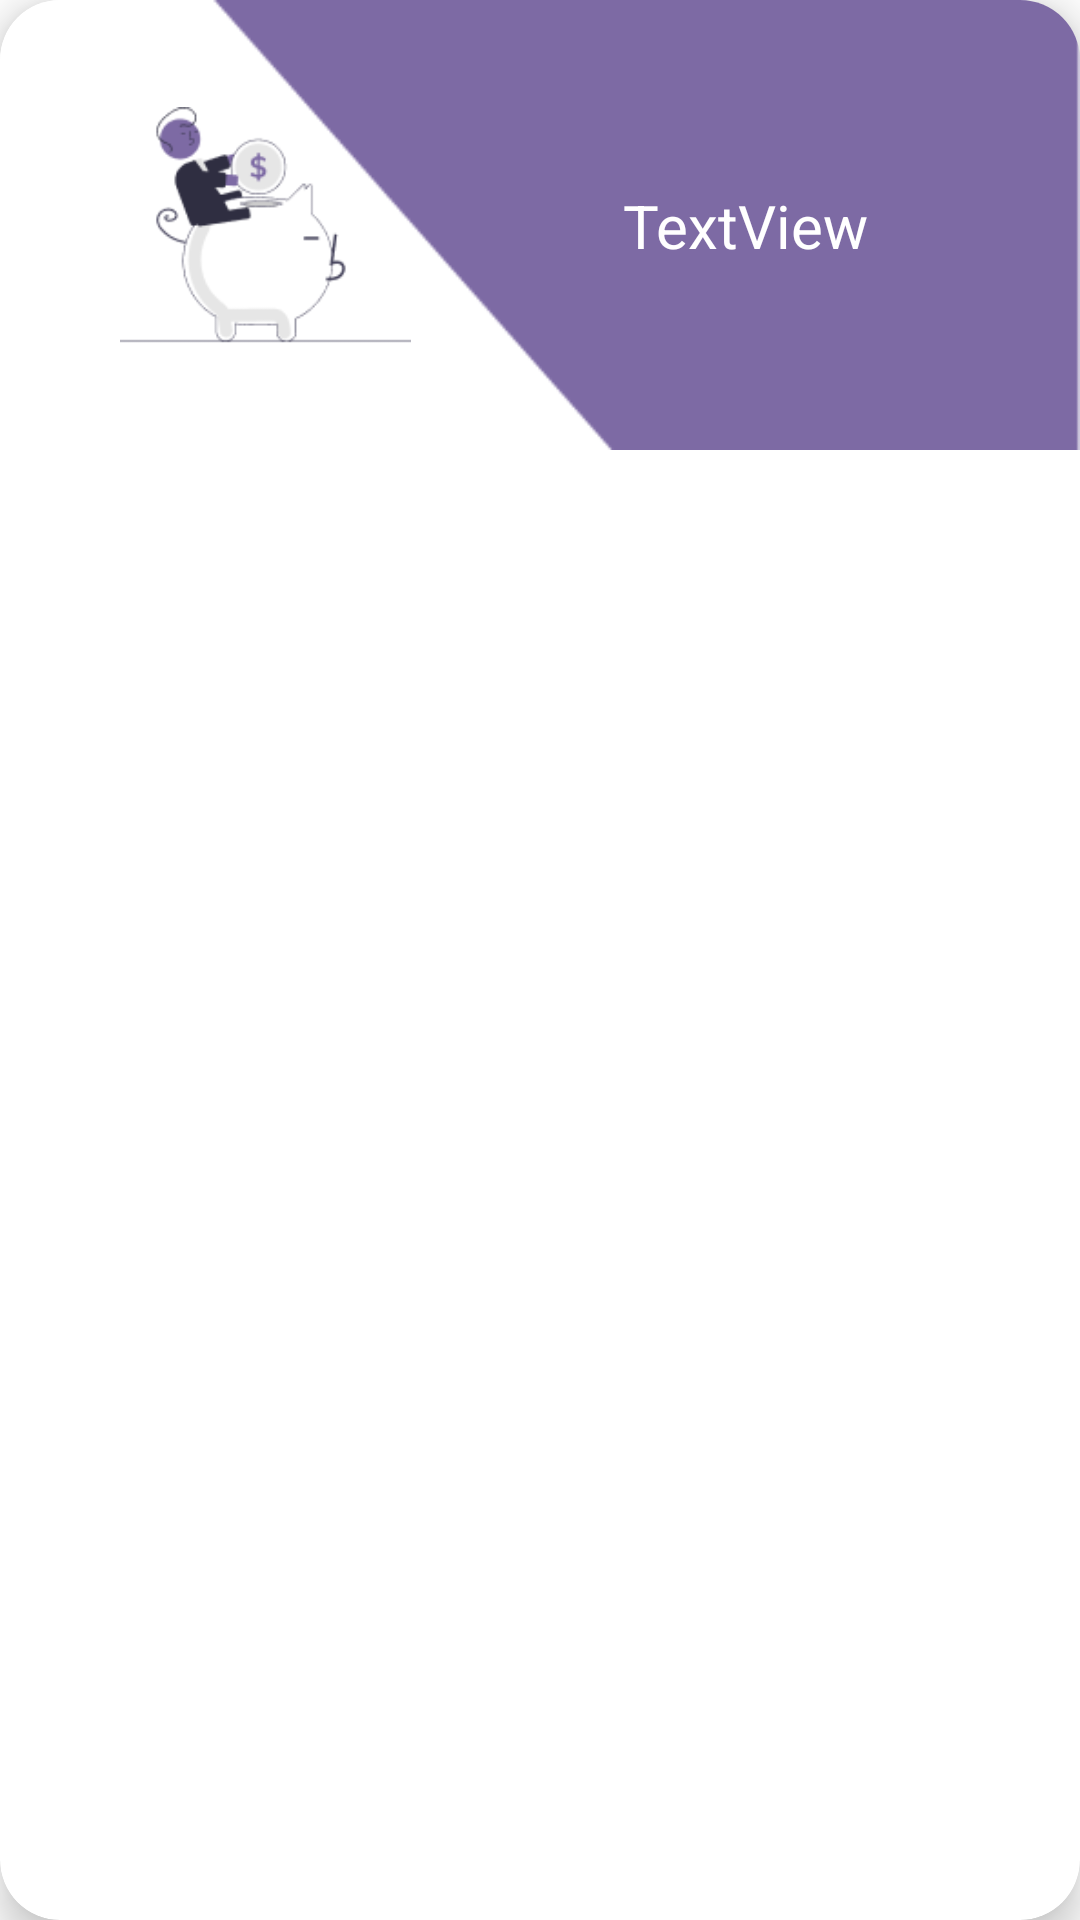

Named icons in this screenshot (1080px x 1920px) and their bounding boxes, (x1=x1, y1=y1, x2=x2, y2=y2):
depozit: (x1=120, y1=107, x2=411, y2=343)
